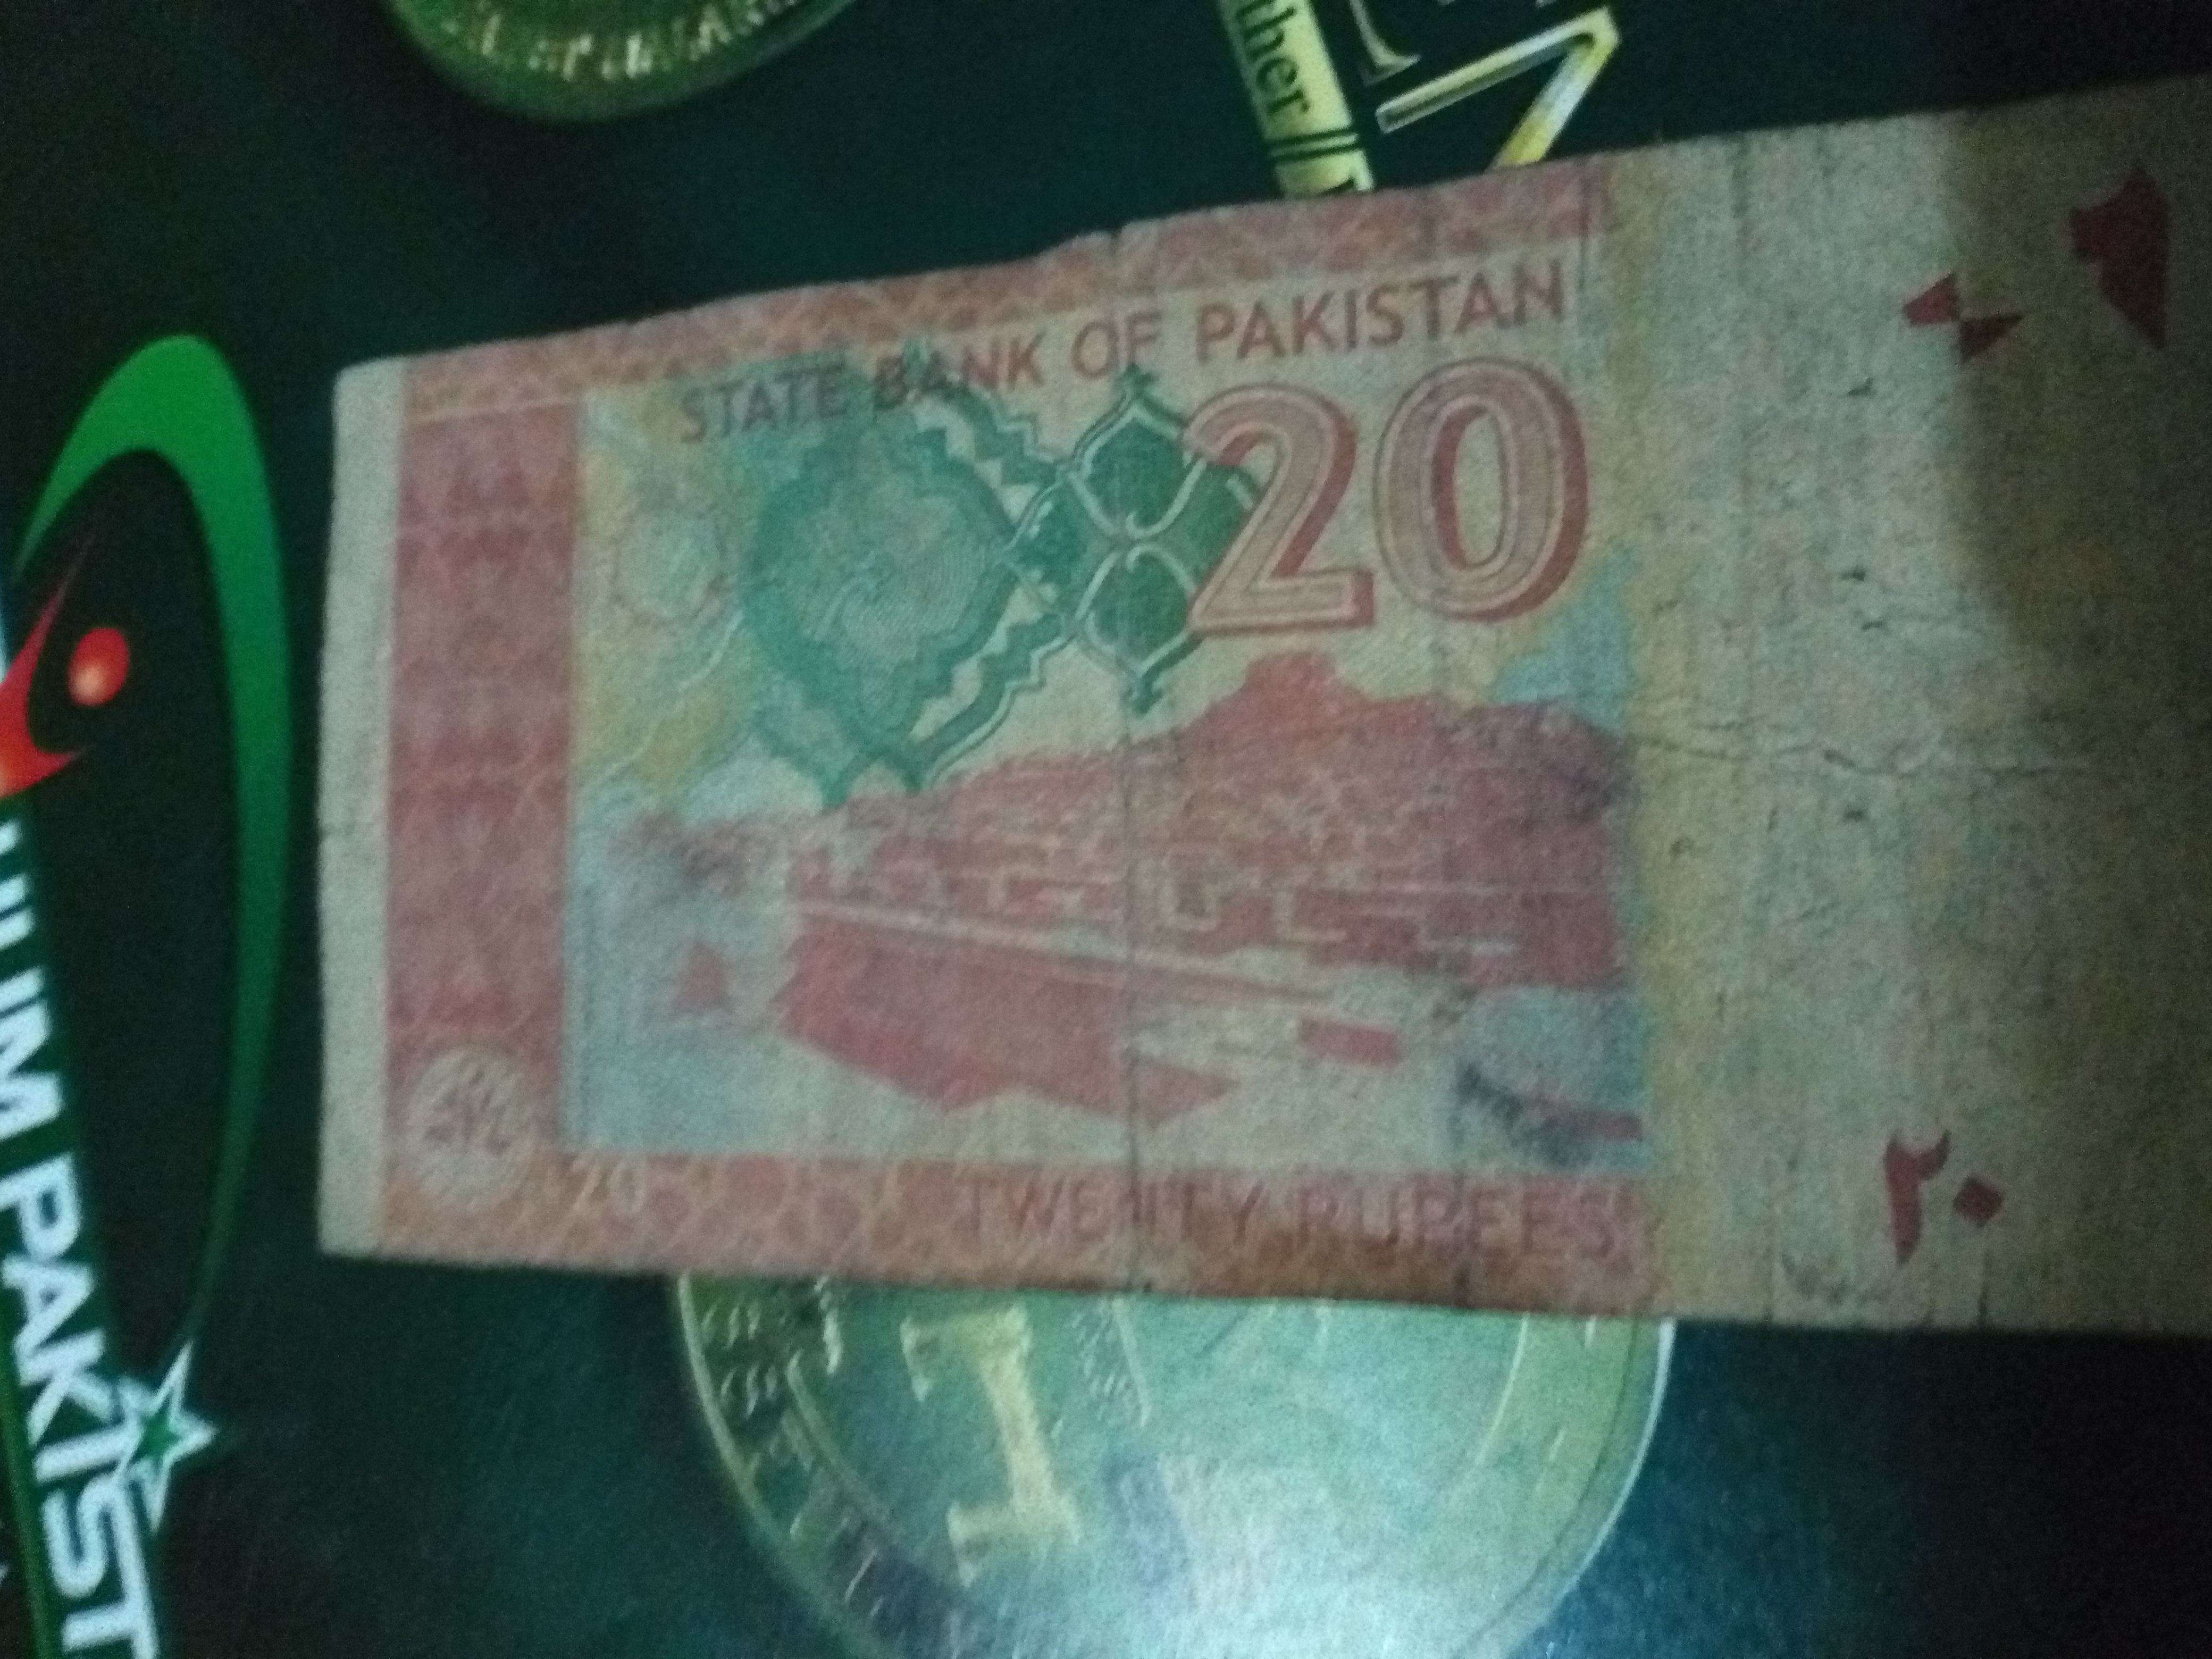20 rupee: (287, 265, 2151, 1363)
